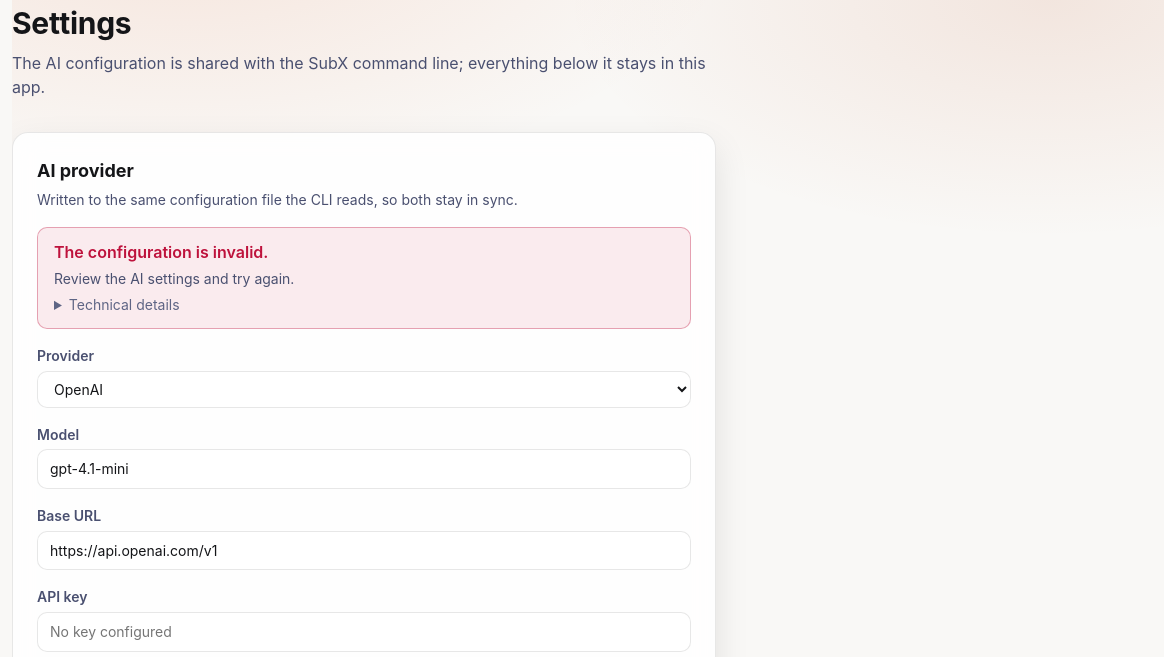
it: settings screen › does not mask a successful save when the post-save re-read fails
Type "gpt-4o-mini" into the field labelled "Model" at (364, 469), box [37, 449, 691, 489]
(page scrolled)
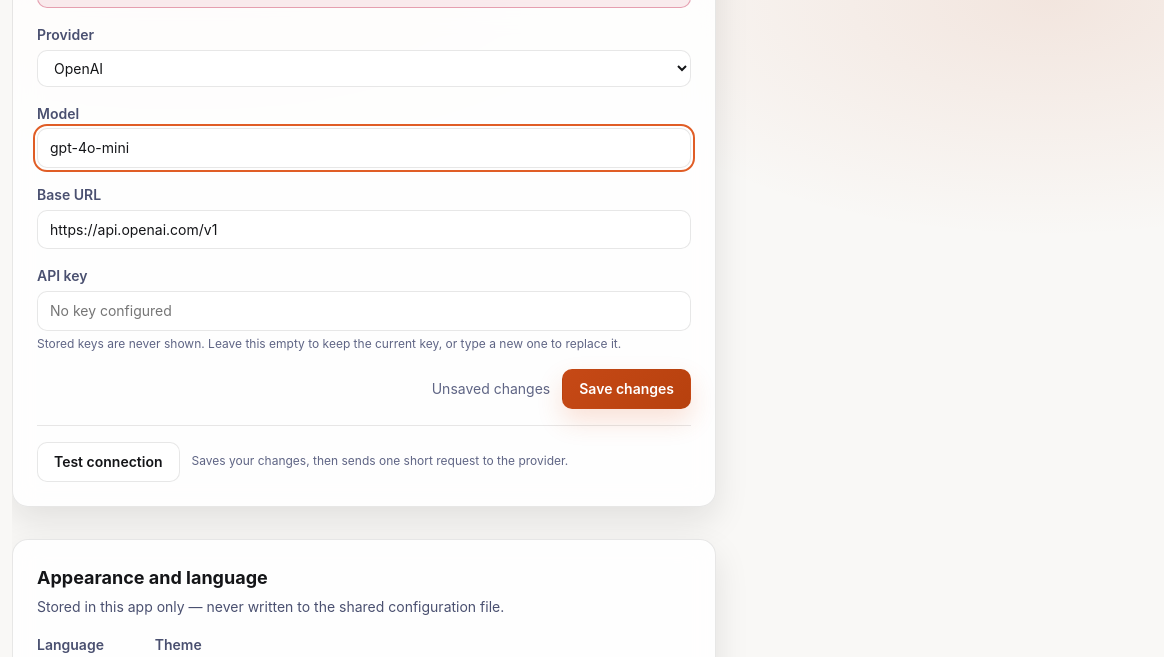
Click the button "Save changes" at (627, 389), box [562, 369, 691, 409]
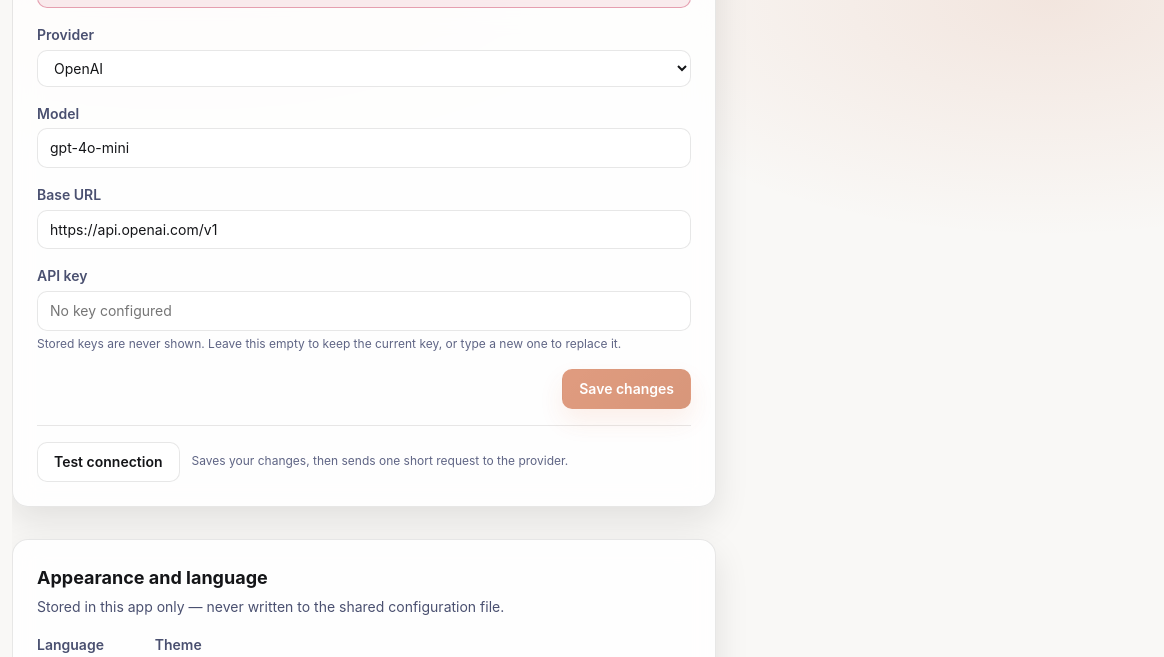
Expected: the text "Unsaved changes" is gone
Expected: the button "Save changes" is disabled, [562, 369, 691, 409]
